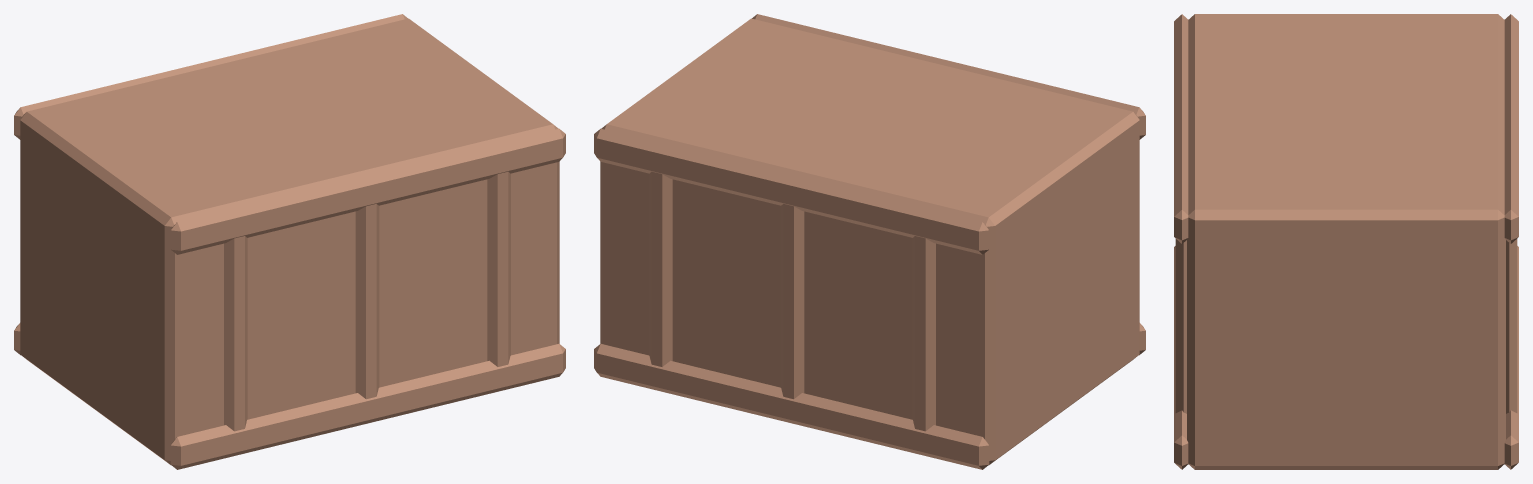
File: SM_Container_1p5x0p9x1.glb
The picture shows the model from 3 angles, left to right: view 1: azimuth 30°, elevation 25°; view 2: azimuth 150°, elevation 25°; view 3: azimuth 270°, elevation 25°; orthographic projection. The views are drawn at different scales.
Visible parts, largest first — view 1: SM_Container_1p5x0p9x1; view 2: SM_Container_1p5x0p9x1; view 3: SM_Container_1p5x0p9x1.
Boxes of the visible parts, x1,y1,x2,y2 form: SM_Container_1p5x0p9x1: (14,14,565,469); SM_Container_1p5x0p9x1: (594,14,1145,469); SM_Container_1p5x0p9x1: (1174,14,1518,469).
Bounding box in the file's own units: 1.5 × 0.9 × 1.08.
